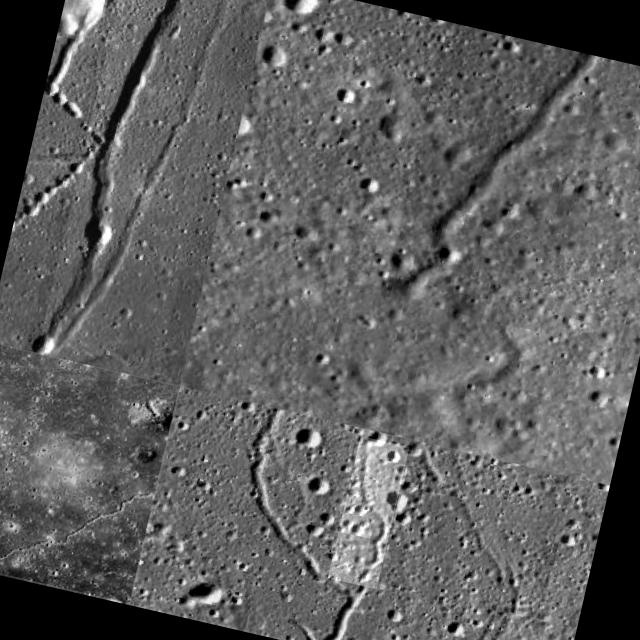crater: (132, 386, 575, 640), (38, 0, 248, 379), (383, 21, 613, 334), (28, 0, 206, 361), (210, 404, 462, 640), (0, 341, 180, 602), (42, 0, 274, 154), (328, 436, 409, 588)
